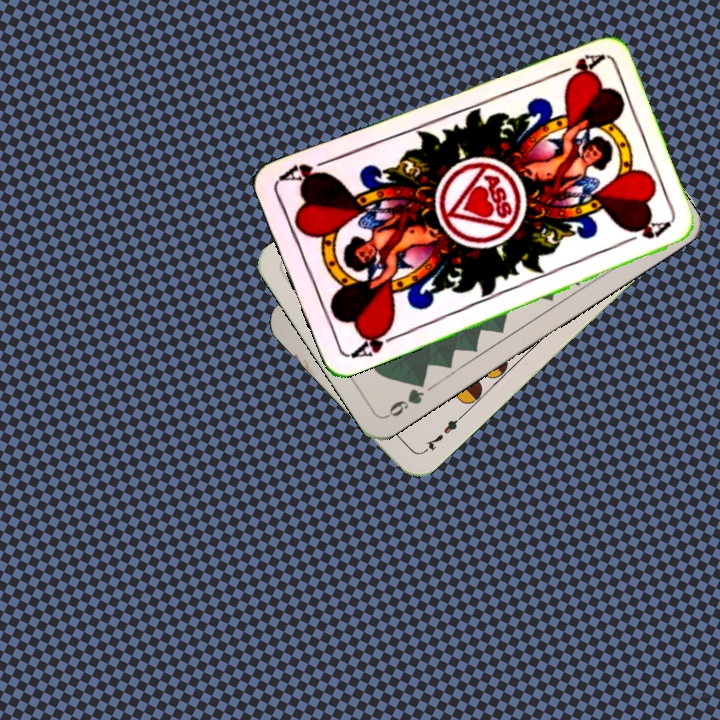E7: (418, 411, 466, 456)
G9: (382, 374, 429, 420)
HA: (345, 321, 402, 361), (548, 50, 605, 83)
